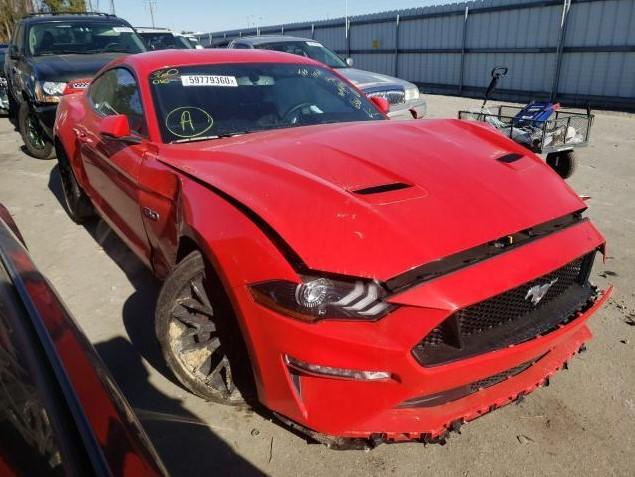Back-wheel: (55, 151, 92, 224)
Fender: (139, 160, 300, 284)
Front-bumper: (228, 217, 615, 445)
Front-door: (74, 63, 158, 259)
Front-wheel: (152, 244, 253, 405)
Front-window: (91, 67, 147, 138)
Grille: (412, 251, 603, 370)
Headlight: (255, 276, 387, 321)
Hood: (157, 116, 586, 285)
Mirror: (91, 198, 154, 278), (101, 116, 132, 140), (373, 94, 396, 115)
Quarter-panel: (52, 94, 89, 188)
Roof: (113, 47, 317, 74)
Trunk: (62, 78, 91, 95)
Windshield: (148, 61, 388, 144)
